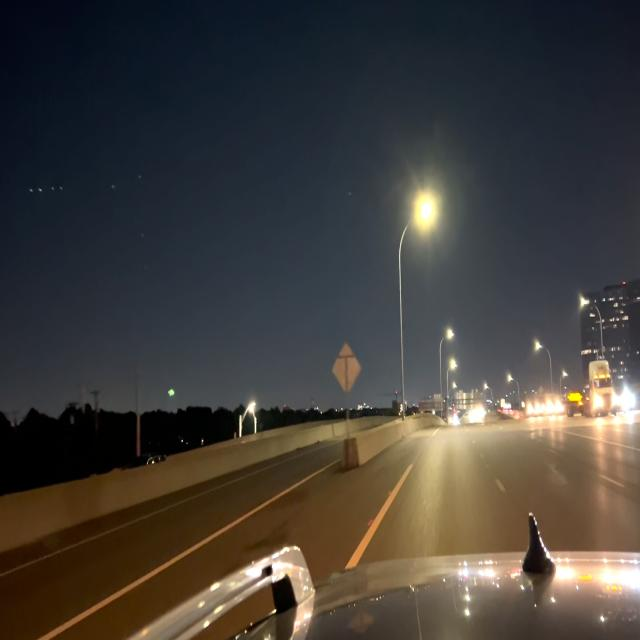back-of-sign: (332, 343, 362, 394)
